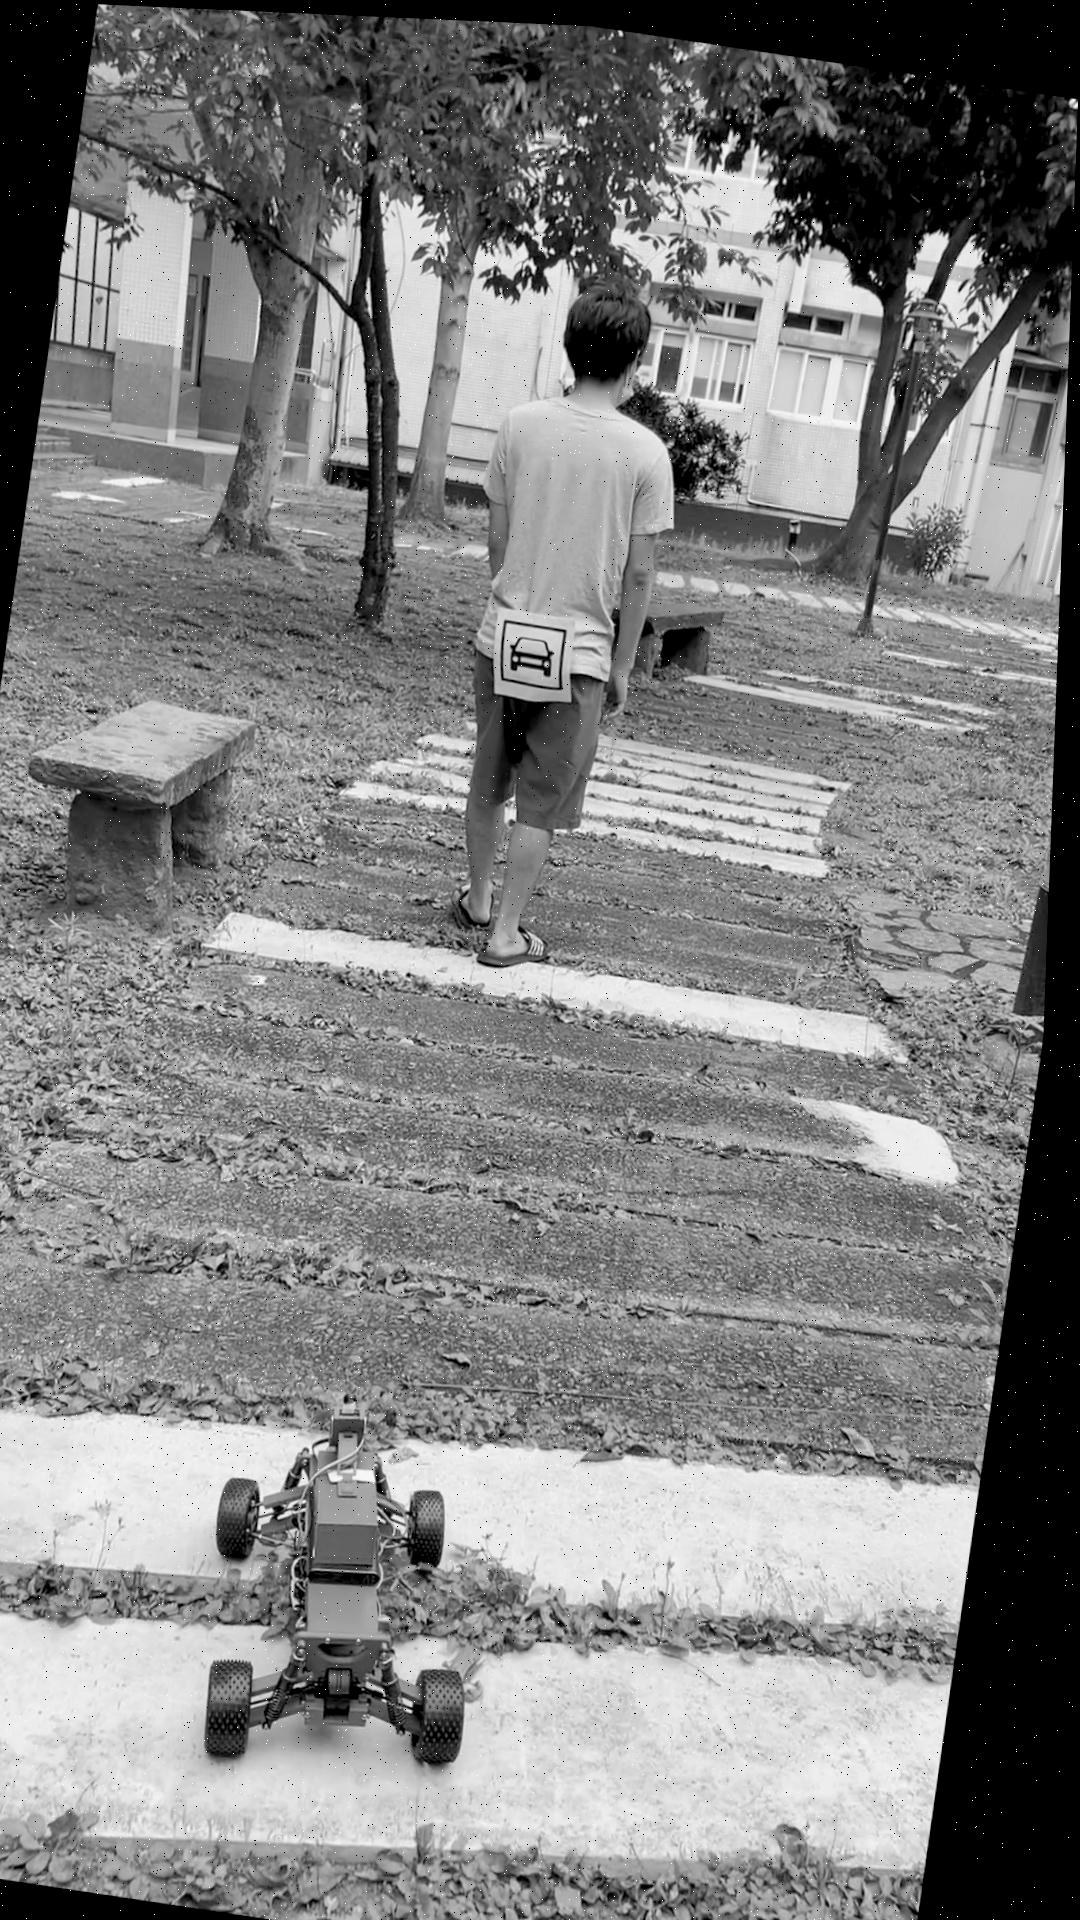car_img: (500, 613, 576, 686)
